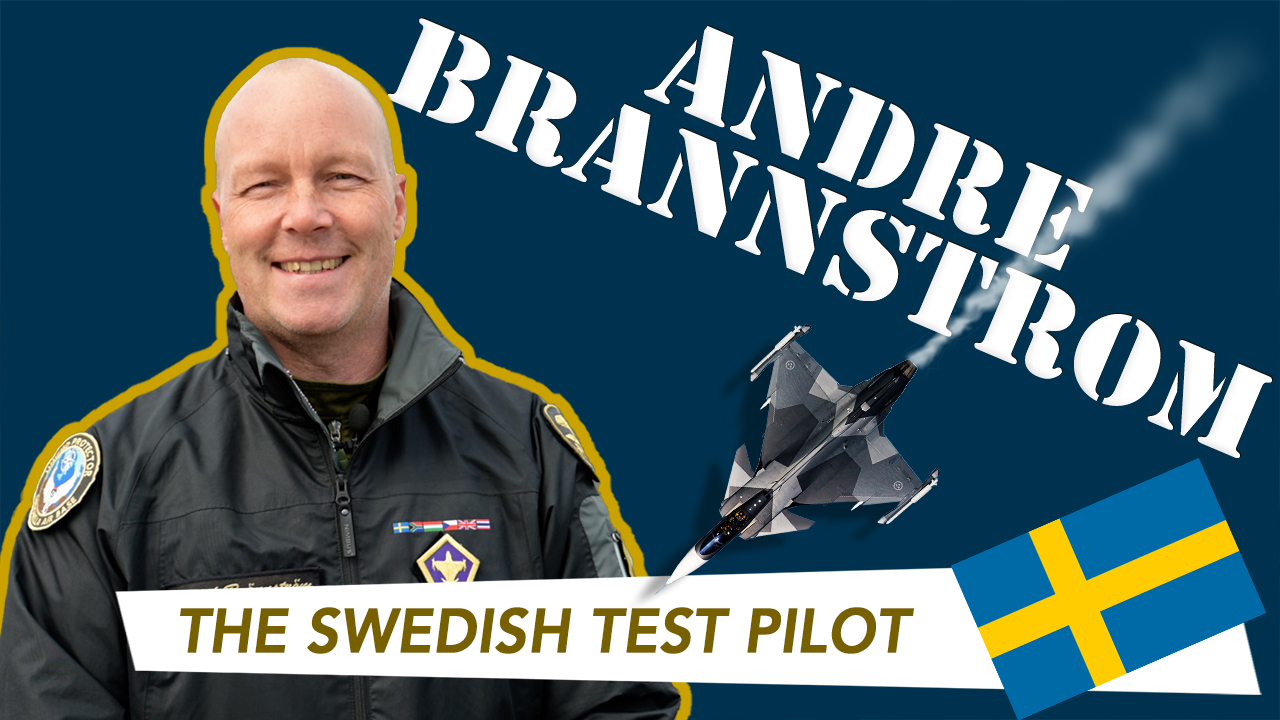JAS39: (654, 324, 939, 595)
